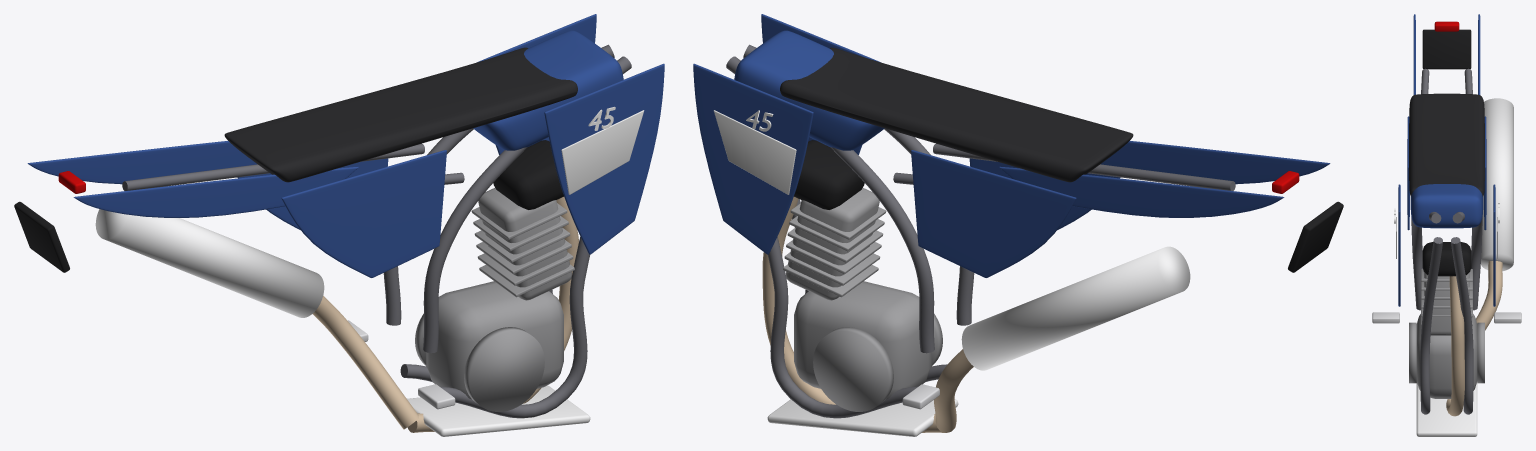
Rendered from ENDURO450_Telaio.glb.
The picture shows the model from 3 angles, left to right: view 1: azimuth 30°, elevation 25°; view 2: azimuth 150°, elevation 25°; view 3: azimuth 270°, elevation 25°; orthographic projection. The views are drawn at different scales.
Parts seen in each view (by area): view 1: ENDURO450_Telaio; view 2: ENDURO450_Telaio; view 3: ENDURO450_Telaio.
Part boxes in pixels (x1,y1,x2,y2): ENDURO450_Telaio: (14, 14, 664, 436); ENDURO450_Telaio: (693, 14, 1343, 436); ENDURO450_Telaio: (1372, 14, 1521, 436).
Bounding box in the file's own units: 1.59 × 0.9064 × 0.49.
